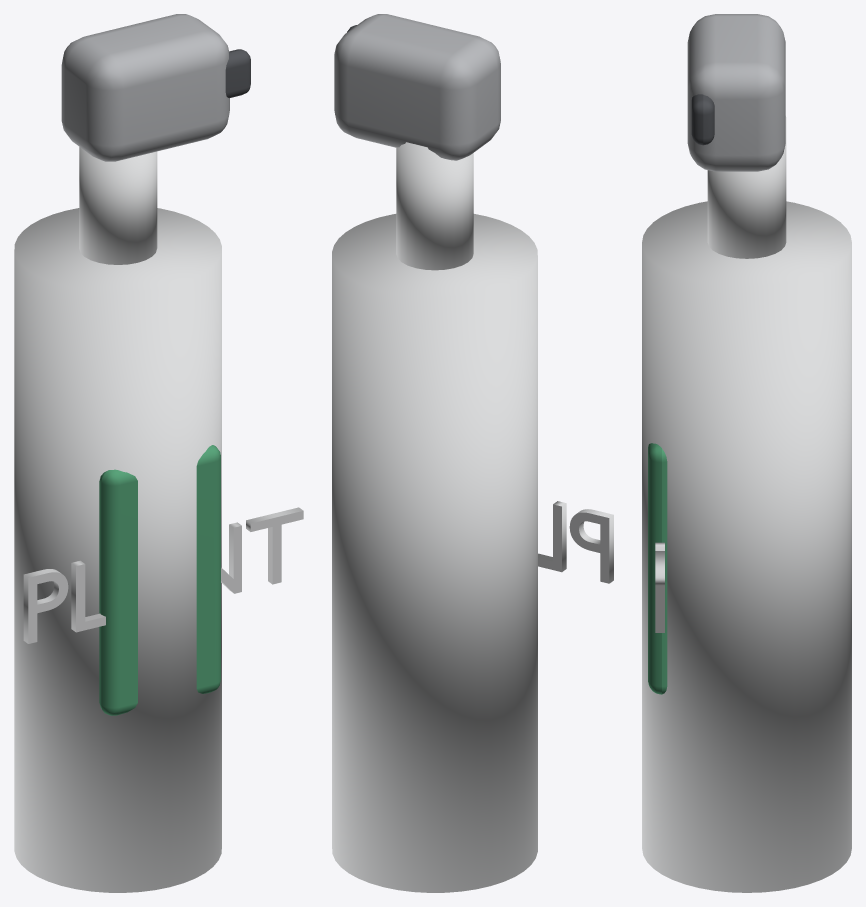
The model's file is p2s_video_so_ong_plant_guardian_spray.glb.
The picture shows the model from 3 angles, left to right: view 1: azimuth 30°, elevation 25°; view 2: azimuth 150°, elevation 25°; view 3: azimuth 270°, elevation 25°; orthographic projection.
Parts seen in each view (by area): view 1: spray_bottle_body, spray_trigger_head, green_label, spray_neck, guardian_label, spray_nozzle_tip; view 2: spray_bottle_body, spray_trigger_head, spray_neck, guardian_label; view 3: spray_bottle_body, spray_trigger_head, spray_neck, green_label, spray_nozzle_tip, guardian_label.
Part boxes in pixels (x1,y1,x2,y2): spray_bottle_body: [14, 208, 221, 892]; spray_trigger_head: [61, 14, 229, 161]; green_label: [99, 445, 220, 715]; spray_neck: [79, 147, 157, 264]; guardian_label: [23, 507, 303, 643]; spray_nozzle_tip: [225, 49, 250, 98]; spray_bottle_body: [332, 214, 537, 892]; spray_trigger_head: [334, 14, 500, 160]; spray_neck: [396, 142, 473, 270]; guardian_label: [538, 501, 613, 583]; spray_bottle_body: [642, 201, 851, 892]; spray_trigger_head: [687, 14, 785, 171]; spray_neck: [707, 116, 786, 258]; green_label: [648, 443, 667, 694]; spray_nozzle_tip: [691, 94, 714, 145]; guardian_label: [655, 542, 664, 632].
Size of the model in its own units: 0.0685 by 0.1932 by 0.0448.
